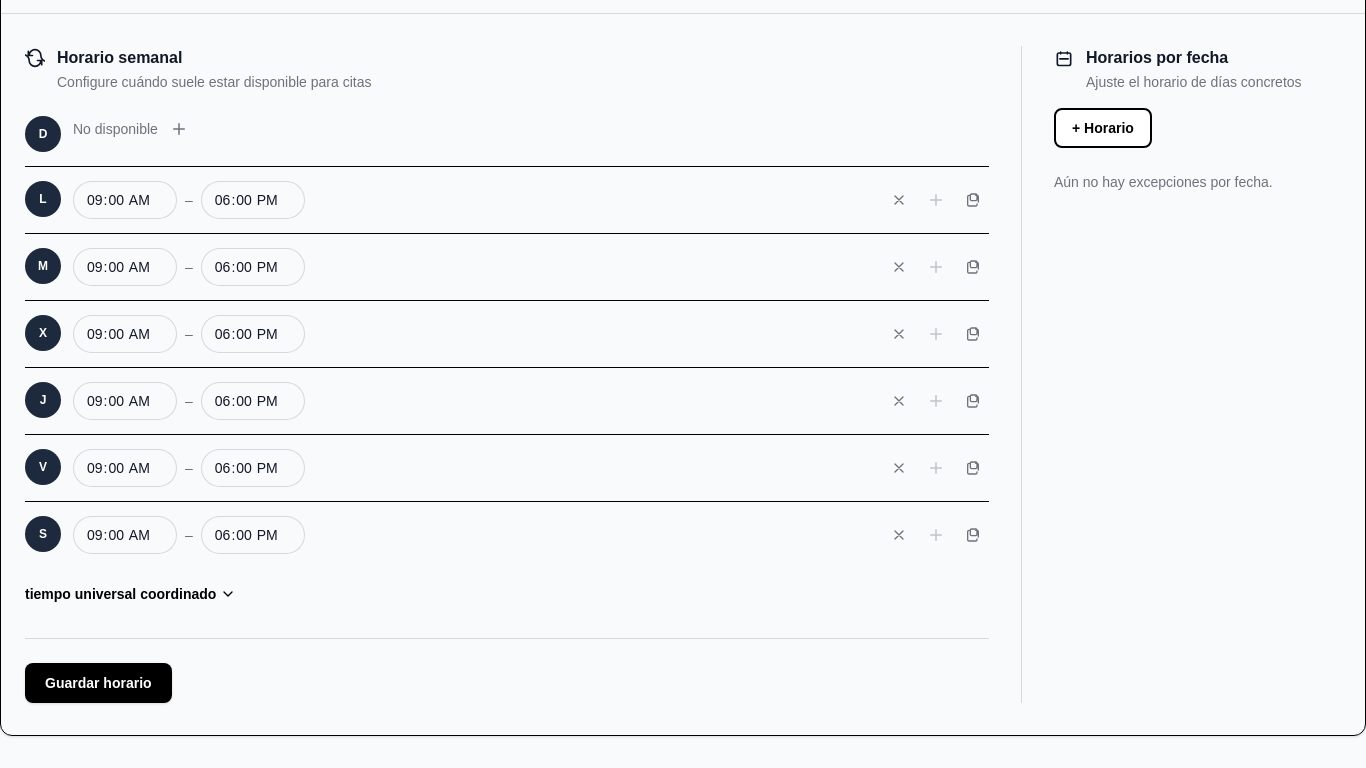
Test: AdminAvailabilityPage › weekly hours › shows save errors when PUT is rejected
(page scrolled)
expect the heading "Horario semanal" is shown: met, box [57,49,182,66]
Click the button "Guardar horario" at x=98, y=683, box [25,663,172,703]
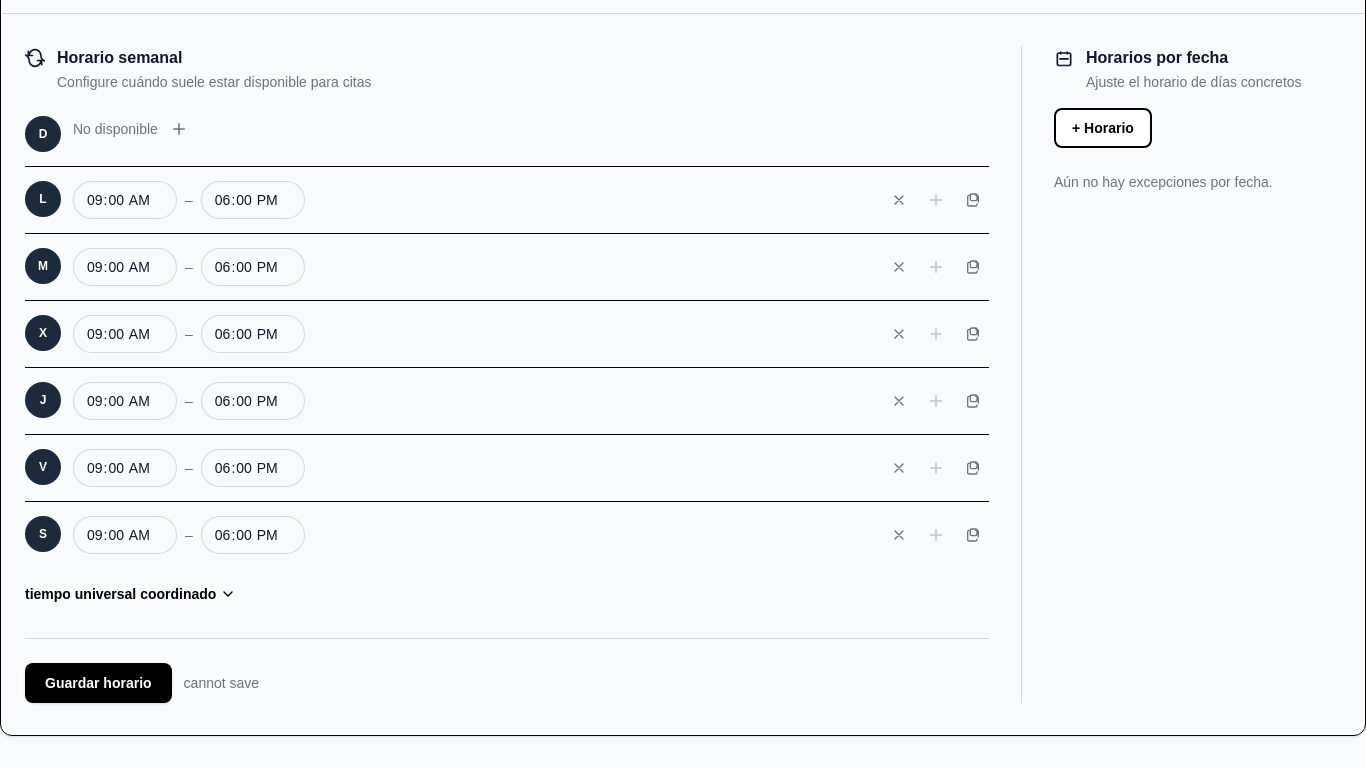
expect the text "cannot save" is shown: met, box [184,673,259,693]
